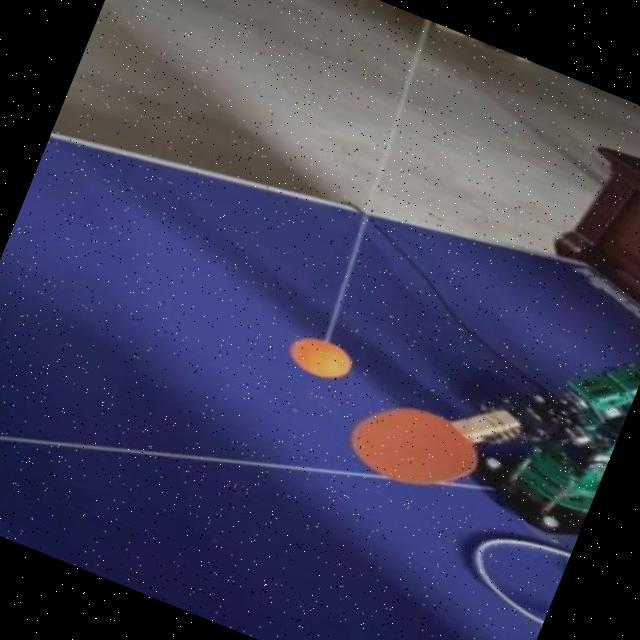ping-pong-ball: (287, 329, 353, 382)
